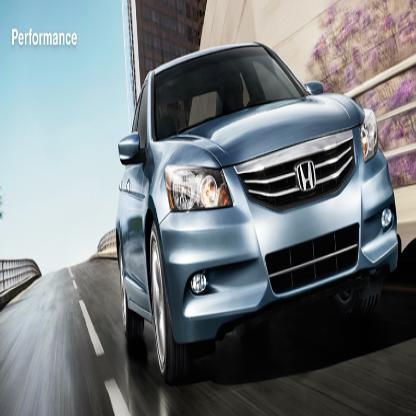Vehicle: (114, 40, 402, 388)
